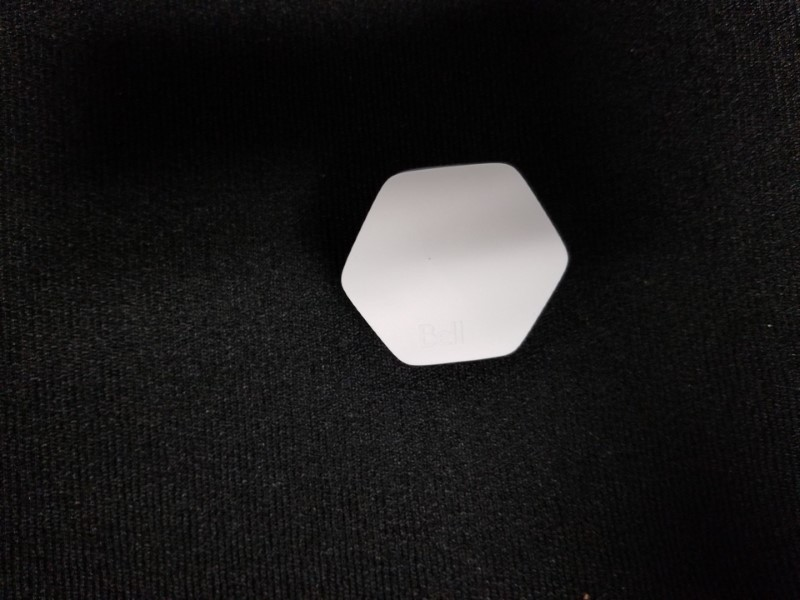pod: (339, 163, 574, 369)
